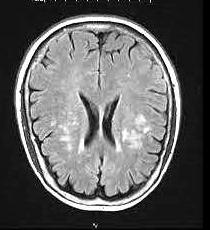Normal_Brain: (1, 1, 210, 230)
